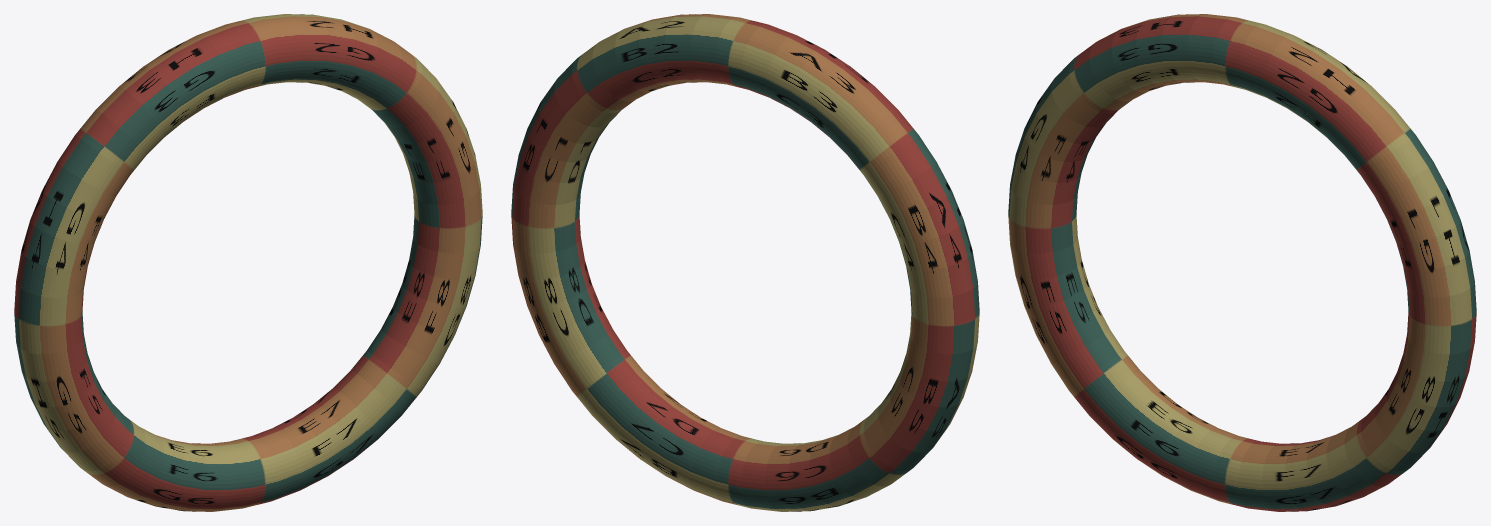
Rendered from texture_torus_R8_r1.glb.
3 renders of one model, left to right at view 1: azimuth 30°, elevation 25°; view 2: azimuth 150°, elevation 25°; view 3: azimuth 330°, elevation 25°, orthographic.
Parts seen in each view (by area): view 1: world; view 2: world; view 3: world.
Part boxes in pixels (left/top/right/bottom): world: left=14, top=14, right=482, bottom=511; world: left=511, top=14, right=979, bottom=511; world: left=1008, top=14, right=1476, bottom=511.
Bounding box in the file's own units: 17.6 × 17.57 × 2.26.
Materials: 1 (1 with a texture image).
